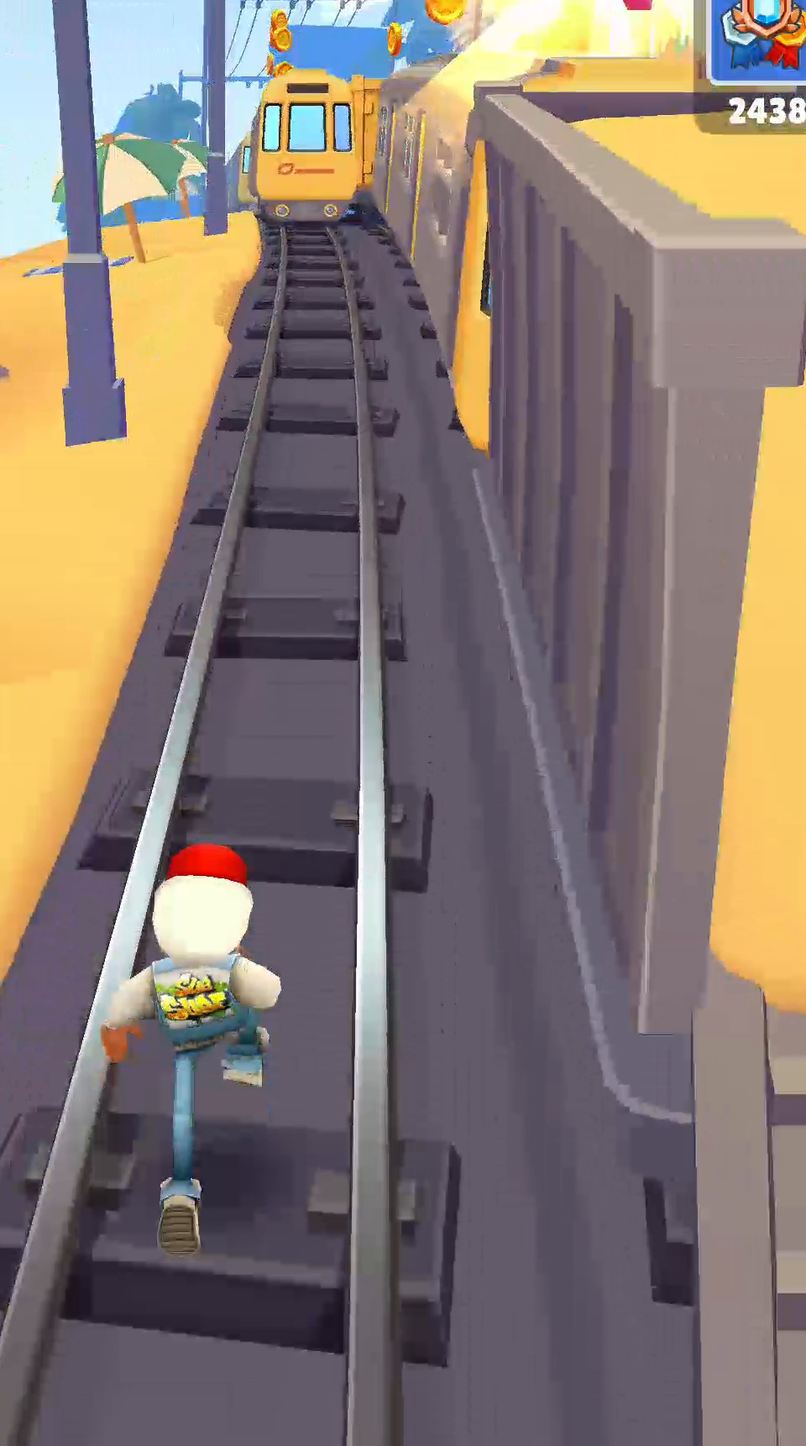train: (473, 99, 805, 1038), (385, 66, 473, 369), (252, 68, 364, 221), (352, 76, 381, 198)
